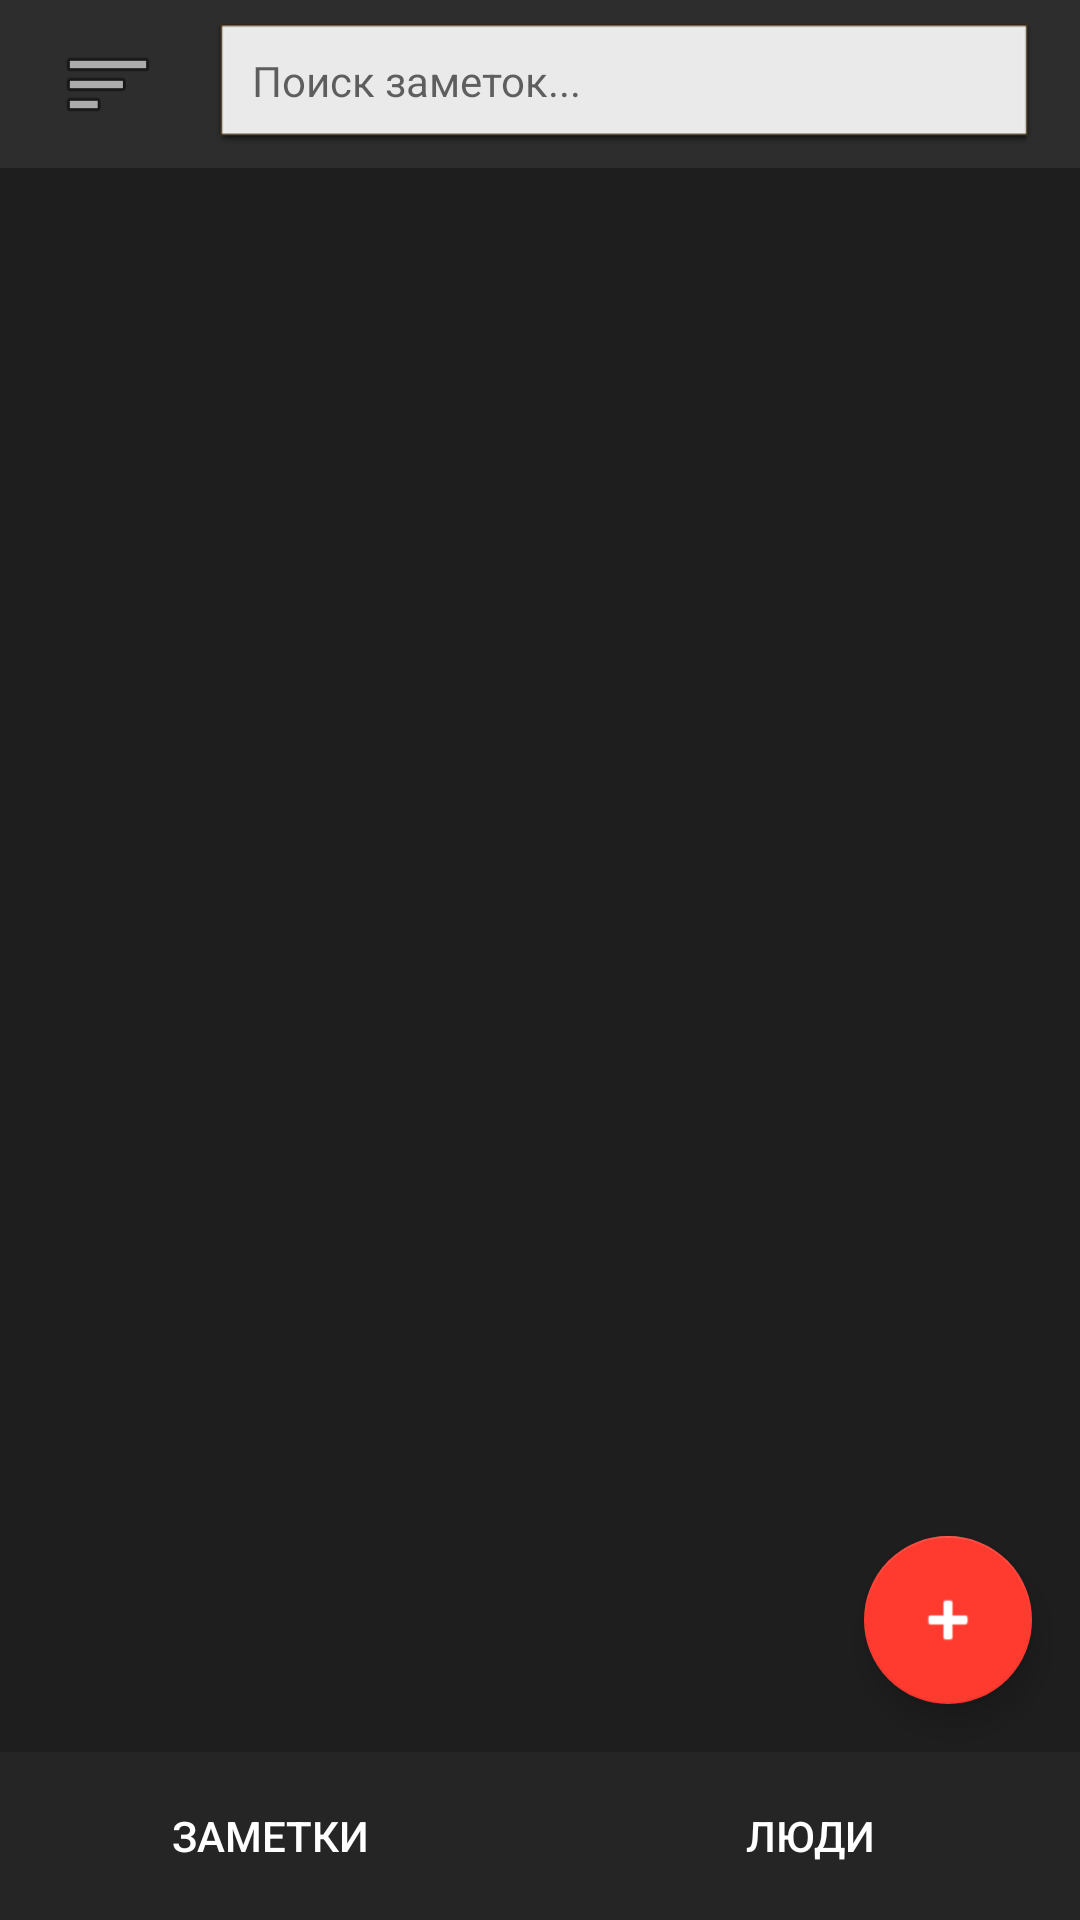

Named icons in this screenshot (1080x1920) and their centers, (x,y):
add: (948,1620)
Меню: (108,84)
